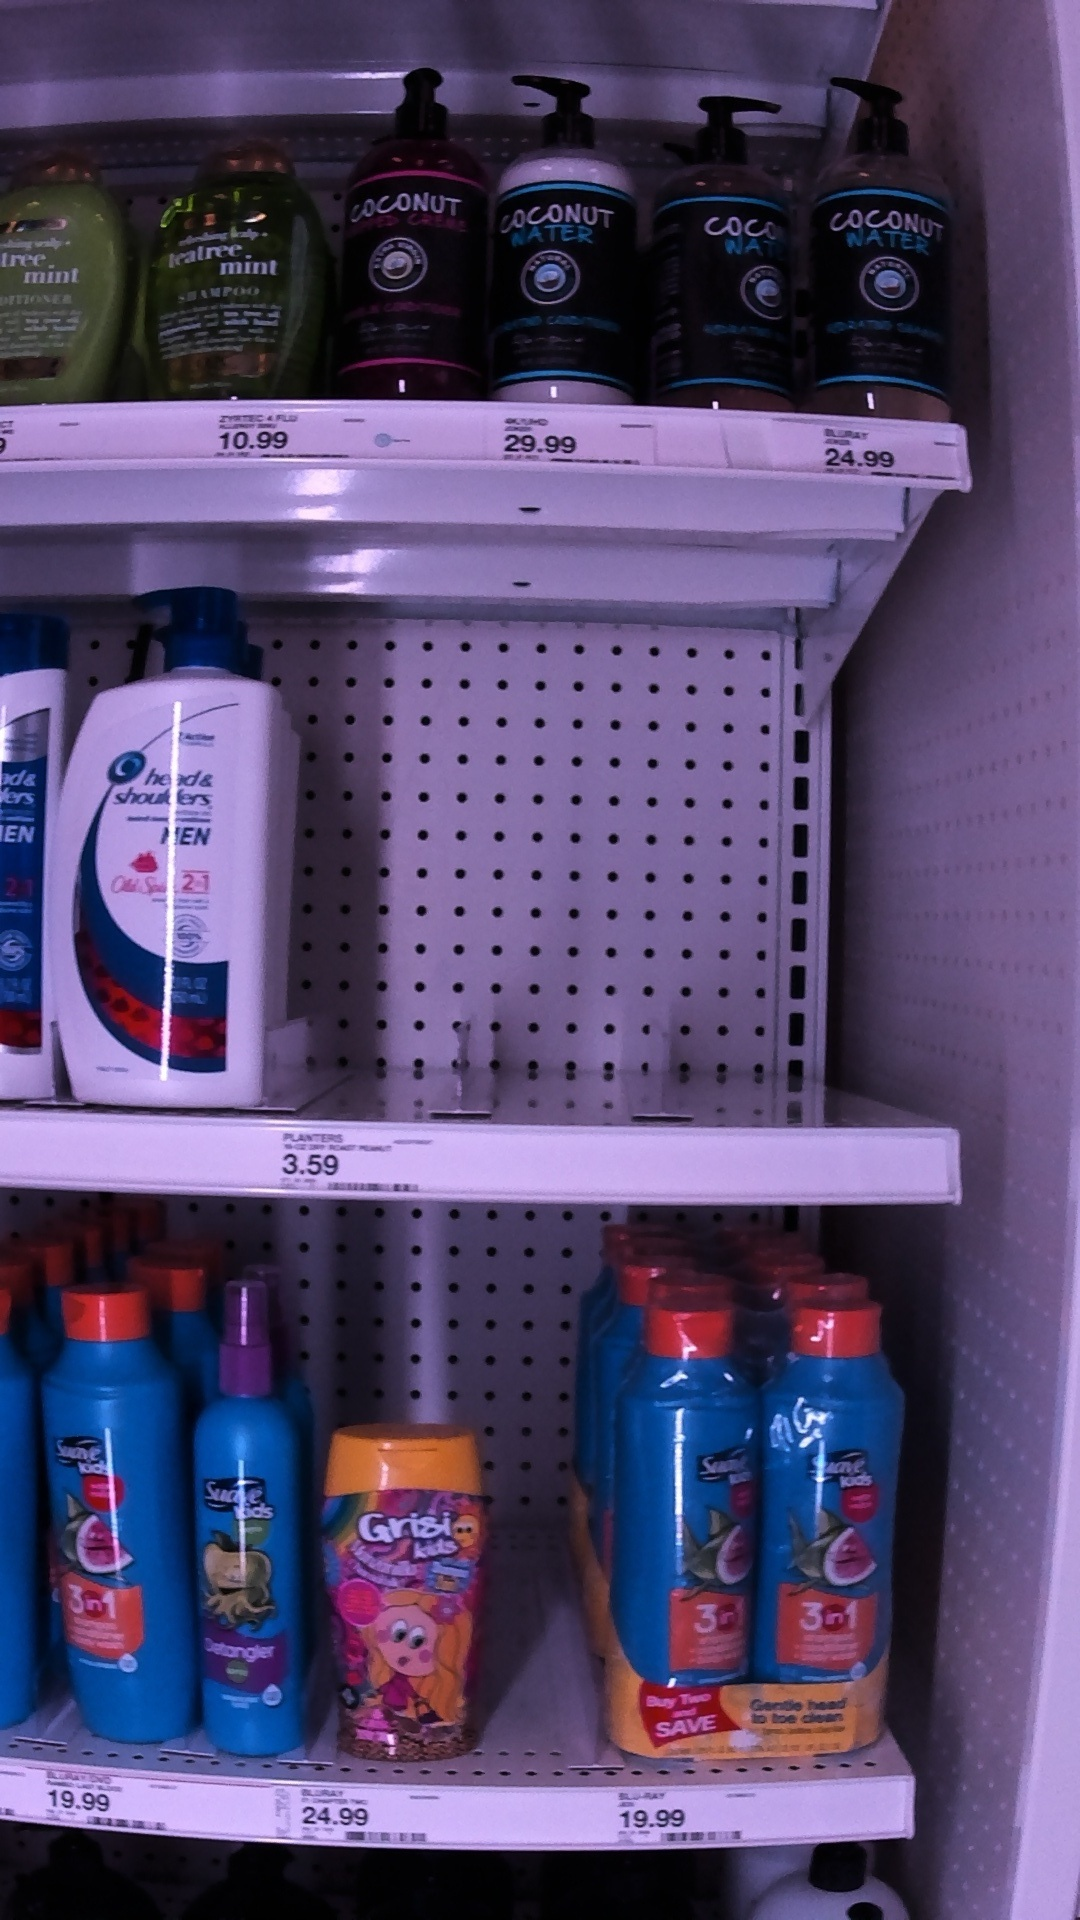ptag: (272, 1116, 438, 1204), (489, 406, 646, 489), (202, 396, 367, 471), (298, 1775, 442, 1855), (44, 1760, 179, 1844), (618, 1782, 746, 1851), (804, 417, 920, 493)
